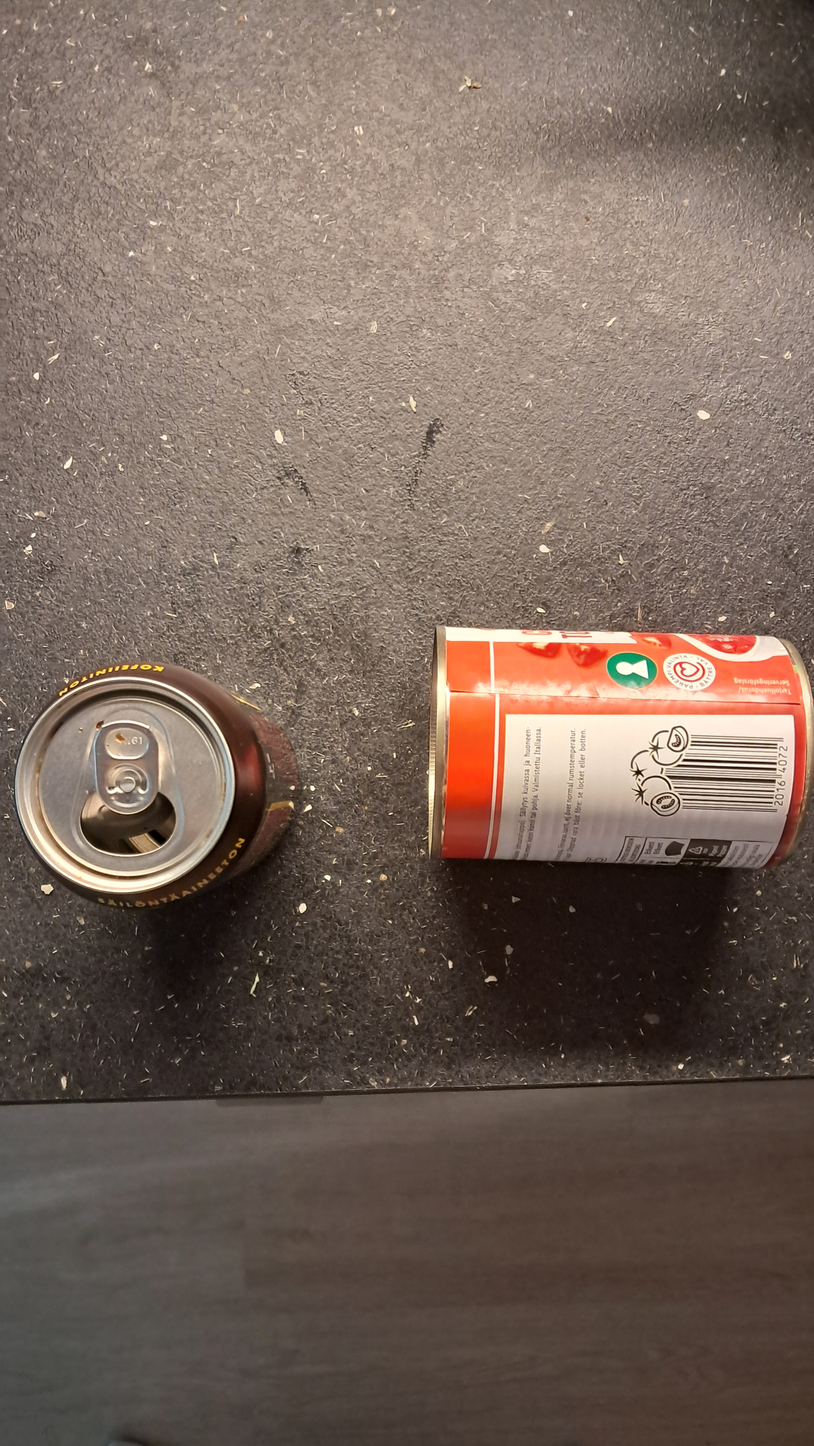Konservburk: (424, 622, 811, 879)
Pantburk: (14, 652, 295, 920)
